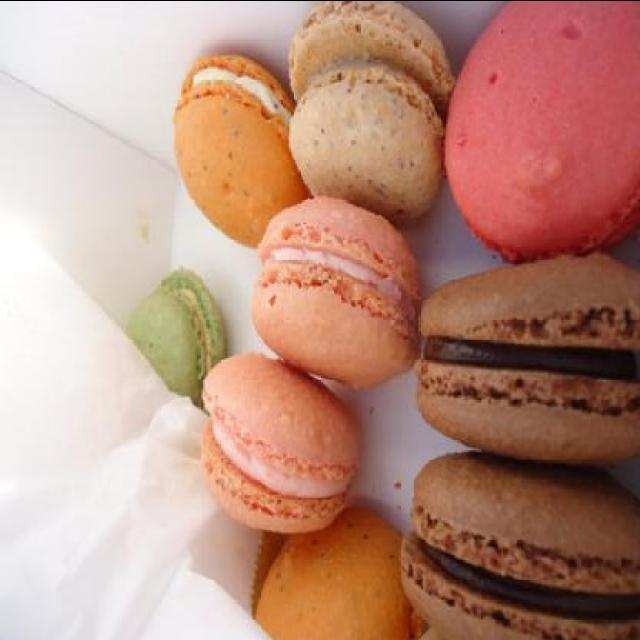Macaron: (128, 2, 640, 636)
